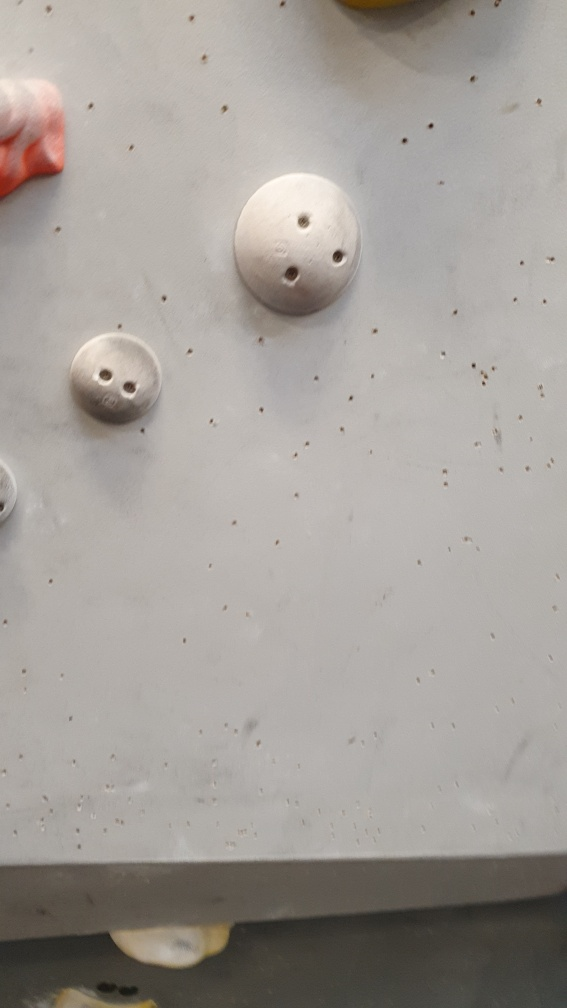Jug: (1, 77, 77, 205)
Sloper: (231, 167, 370, 321), (67, 328, 168, 425)
